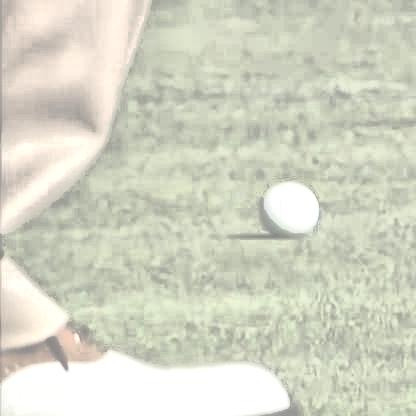golfball: (257, 181, 316, 237)
